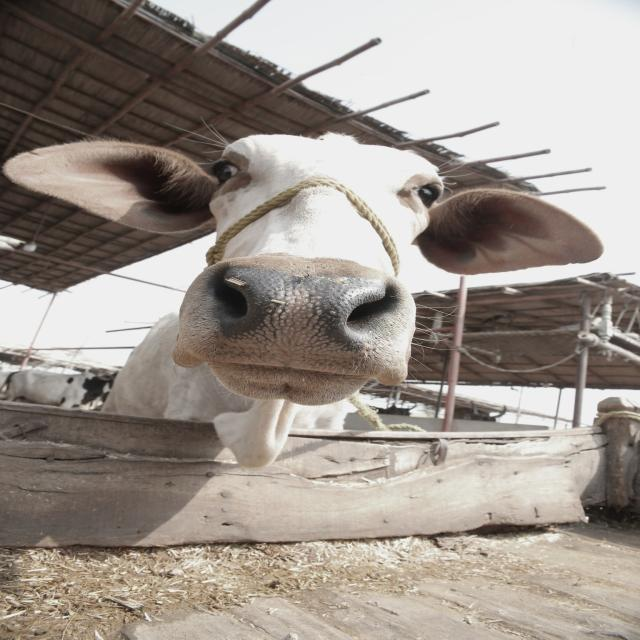muzzles: (199, 260, 404, 382)
